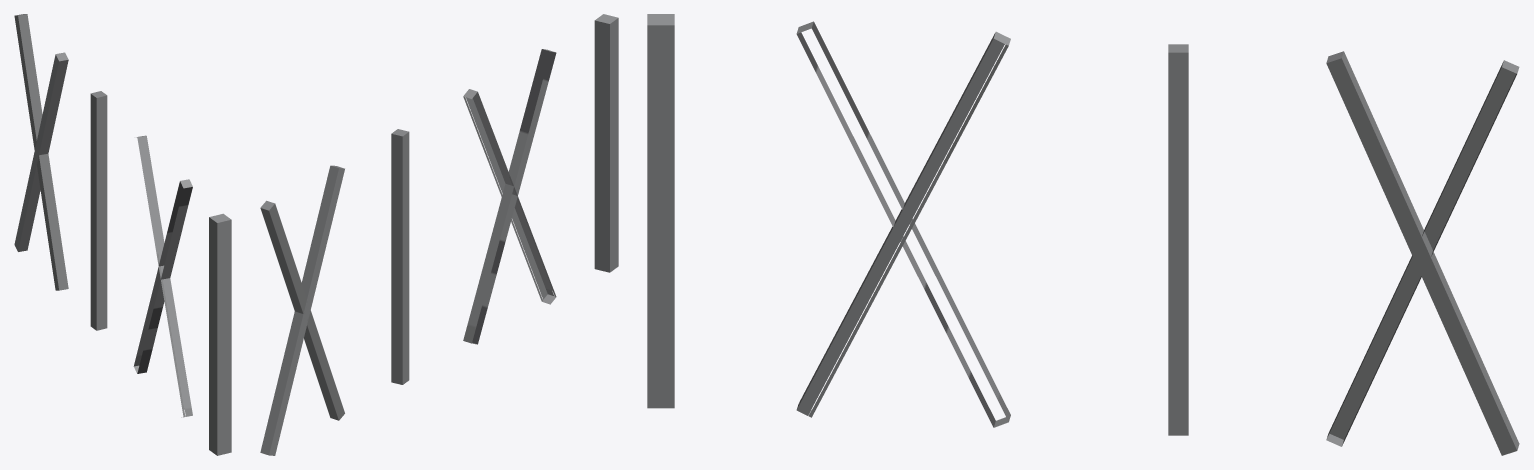
3 views of the same model, side by side, from view 1: azimuth 30°, elevation 25°; view 2: azimuth 150°, elevation 25°; view 3: azimuth 270°, elevation 25° (orthographic). The views are drawn at different scales.
Bounding box in the file's own units: 0.3194 × 1.02 × 2.06.
